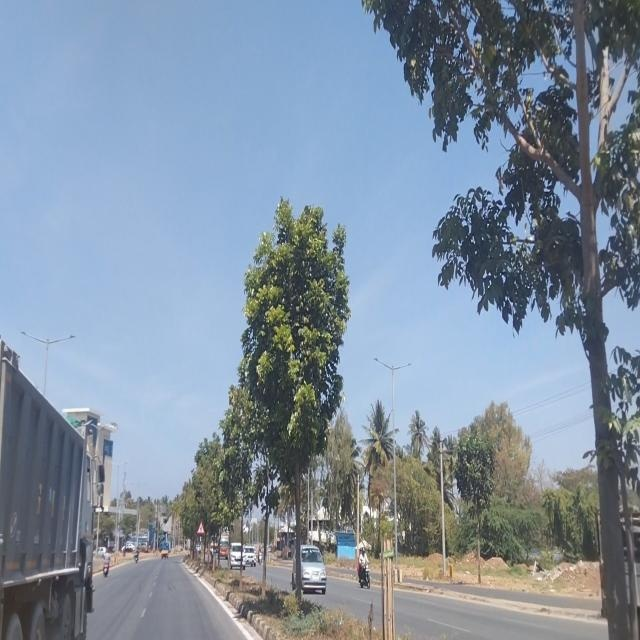bien_nguy_hiem: (196, 520, 204, 536)
